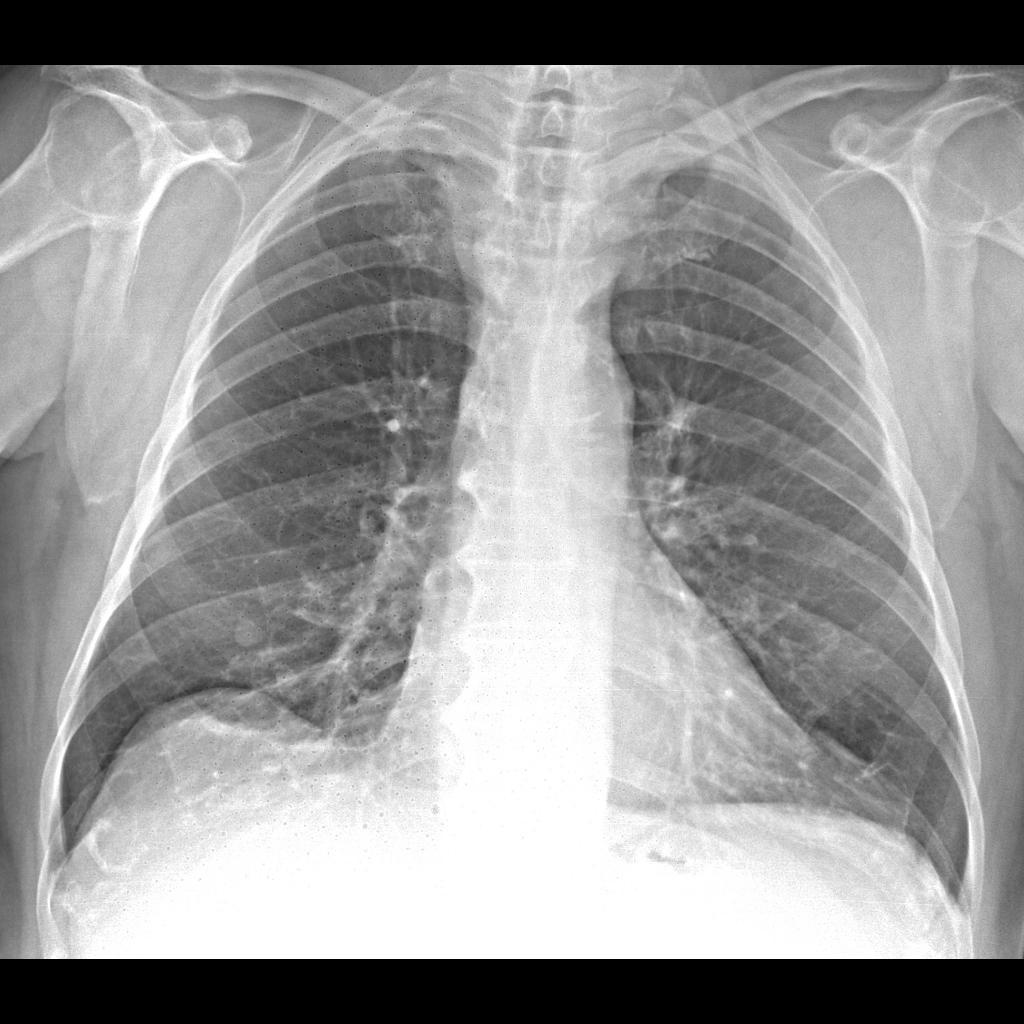Nodule: (229, 612, 279, 652)
